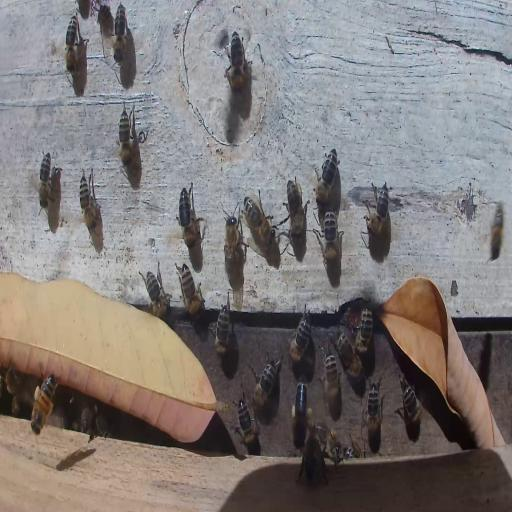nonpollenbee: (242, 194, 274, 250), (249, 353, 281, 408), (176, 184, 202, 250), (175, 262, 204, 319), (141, 262, 170, 317), (222, 212, 244, 282), (313, 148, 339, 207), (364, 180, 391, 236), (226, 32, 250, 92), (78, 164, 98, 235), (288, 305, 312, 363), (236, 398, 260, 454), (210, 302, 232, 360), (398, 377, 422, 430), (338, 334, 363, 384), (286, 176, 306, 238), (318, 211, 340, 267), (312, 424, 343, 462), (301, 434, 324, 485), (322, 351, 340, 416), (354, 304, 373, 362), (366, 376, 383, 439), (118, 105, 133, 168), (80, 405, 108, 436), (113, 3, 127, 65), (490, 201, 504, 262), (65, 14, 77, 76), (39, 150, 51, 208), (4, 367, 22, 395), (344, 438, 364, 458), (316, 345, 326, 379), (11, 396, 22, 416)
pollenbee: (28, 370, 56, 439), (291, 379, 313, 451)
